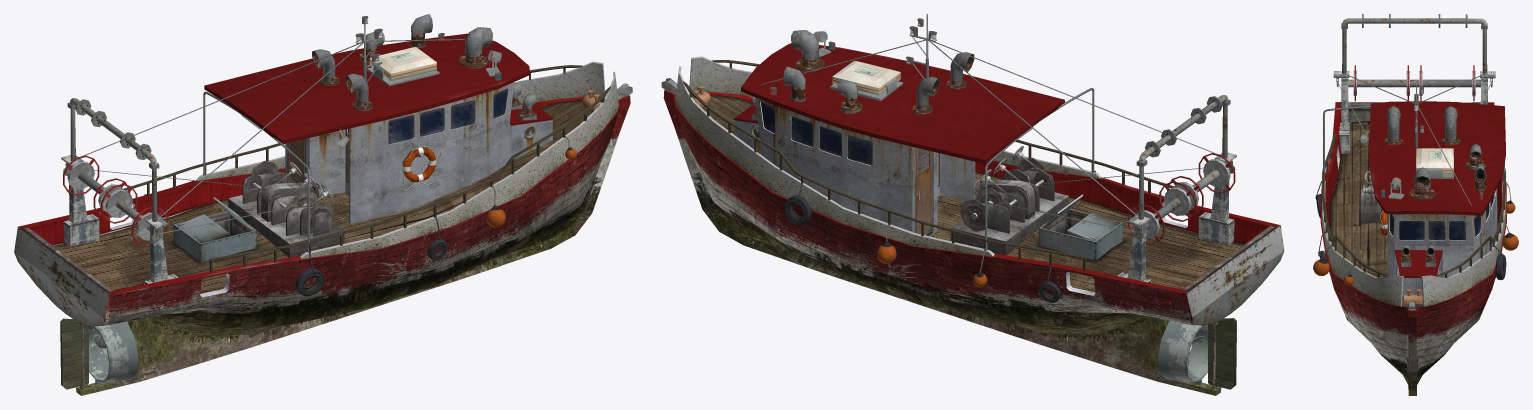
The model's file is bote-grande.glb.
3 renders of one model, left to right at view 1: azimuth 30°, elevation 25°; view 2: azimuth 150°, elevation 25°; view 3: azimuth 270°, elevation 25°, orthographic. The views are drawn at different scales.
Visible parts, largest first — view 1: bateau_peche_bateau_peche_coque_0, bateau_peche_chalut_0, bateau_peche_machinerie_0, bateau_peche_helice_0, bateau_peche_aerations_0, bateau_peche_rembarde_0, bateau_peche_metal_0, bateau_peche_accessoires_0, bateau_peche_pneu_0, bateau_peche_bouee_sauvetage_0, lumieres_eclairage_0; view 2: bateau_peche_bateau_peche_coque_0, bateau_peche_chalut_0, bateau_peche_machinerie_0, bateau_peche_helice_0, bateau_peche_aerations_0, bateau_peche_rembarde_0, bateau_peche_metal_0, bateau_peche_accessoires_0, bateau_peche_pneu_0, lumieres_eclairage_0, bateau_peche_bouee_0; view 3: bateau_peche_bateau_peche_coque_0, bateau_peche_chalut_0, bateau_peche_aerations_0, bateau_peche_rembarde_0, bateau_peche_accessoires_0, bateau_peche_metal_0, bateau_peche_bouee_0, bateau_peche_machinerie_0, lumieres_eclairage_0, bateau_peche_pneu_0, bateau_peche_bouee_sauvetage_0.
Boxes of the visible parts, <box> form: bateau_peche_bateau_peche_coque_0: <box>14,33,630,395</box>; bateau_peche_chalut_0: <box>61,98,178,284</box>; bateau_peche_machinerie_0: <box>228,160,344,257</box>; bateau_peche_helice_0: <box>60,318,138,389</box>; bateau_peche_aerations_0: <box>312,14,536,120</box>; bateau_peche_rembarde_0: <box>123,65,611,272</box>; bateau_peche_metal_0: <box>82,16,465,252</box>; bateau_peche_accessoires_0: <box>367,47,632,112</box>; bateau_peche_pneu_0: <box>144,194,447,296</box>; bateau_peche_bouee_sauvetage_0: <box>402,146,441,191</box>; lumieres_eclairage_0: <box>241,16,501,147</box>; bateau_peche_bateau_peche_coque_0: <box>663,43,1284,395</box>; bateau_peche_chalut_0: <box>1117,95,1236,283</box>; bateau_peche_machinerie_0: <box>950,146,1068,255</box>; bateau_peche_helice_0: <box>1158,318,1236,389</box>; bateau_peche_aerations_0: <box>751,30,974,120</box>; bateau_peche_rembarde_0: <box>683,60,1173,271</box>; bateau_peche_metal_0: <box>761,14,1218,250</box>; bateau_peche_accessoires_0: <box>661,61,903,107</box>; bateau_peche_pneu_0: <box>784,170,1095,302</box>; lumieres_eclairage_0: <box>770,18,1032,141</box>; bateau_peche_bouee_0: <box>877,223,987,287</box>; bateau_peche_bateau_peche_coque_0: <box>1320,101,1506,395</box>; bateau_peche_chalut_0: <box>1333,14,1495,153</box>; bateau_peche_aerations_0: <box>1384,106,1486,266</box>; bateau_peche_rembarde_0: <box>1322,134,1505,277</box>; bateau_peche_accessoires_0: <box>1403,148,1453,310</box>; bateau_peche_metal_0: <box>1323,73,1504,205</box>; bateau_peche_bouee_0: <box>1313,181,1518,285</box>; bateau_peche_machinerie_0: <box>1360,170,1387,223</box>; lumieres_eclairage_0: <box>1360,86,1483,199</box>; bateau_peche_pneu_0: <box>1315,172,1506,280</box>; bateau_peche_bouee_sauvetage_0: <box>1377,203,1387,243</box>.
Size of the model in its own units: 1314 by 675 by 480.
Materials: 12 (12 with a texture image).
